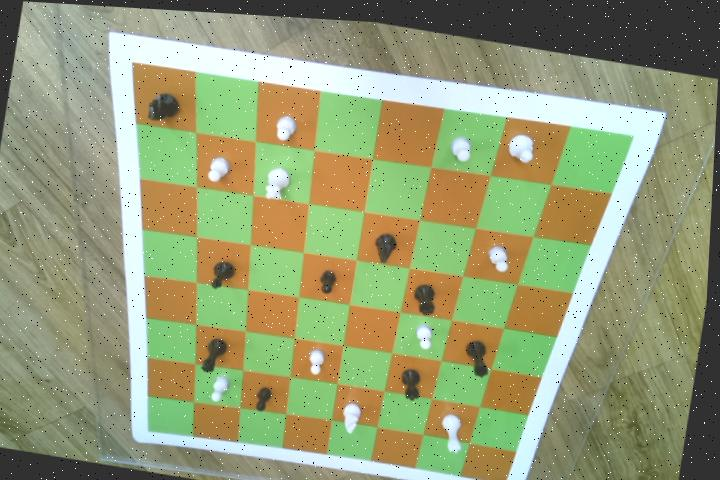chessboard-detect: (132, 59, 634, 480)
